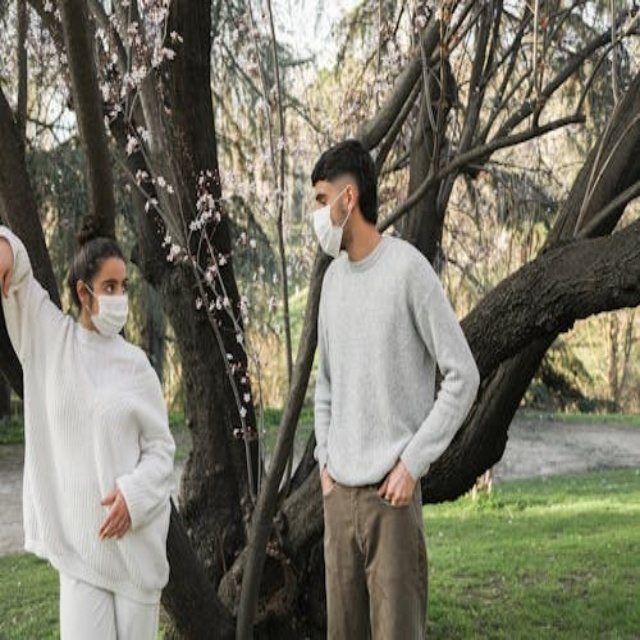Mascara: (312, 189, 351, 258), (83, 282, 129, 337)
Sin_gafas: (312, 185, 334, 211), (100, 275, 129, 294)
Sin_guantes: (96, 484, 133, 550), (379, 457, 419, 505)
